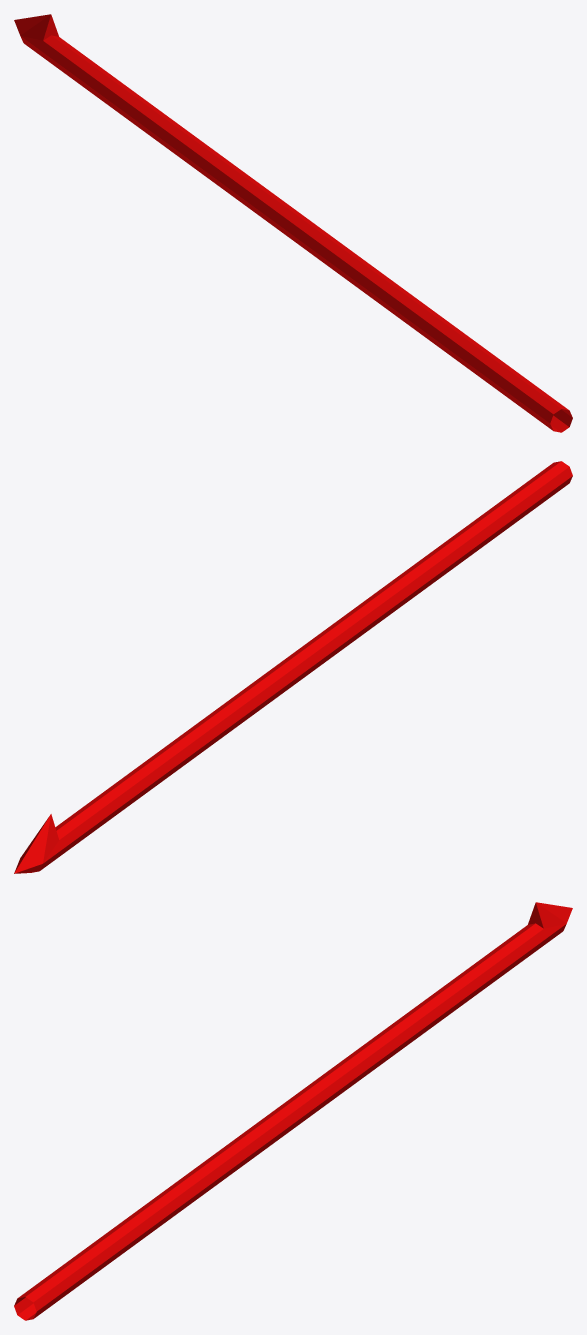
File: Spear.fbx
The picture shows the model from 3 angles, top to bottom: view 1: azimuth 30°, elevation 25°; view 2: azimuth 150°, elevation 25°; view 3: azimuth 330°, elevation 25°; orthographic projection.
Parts seen in each view (by area): view 1: polySurface8; view 2: polySurface8; view 3: polySurface8.
Boxes of the visible parts, <box> form: polySurface8: <box>14,14,572,432</box>; polySurface8: <box>14,461,572,873</box>; polySurface8: <box>14,902,572,1320</box>.
Size of the model in its own units: 0.0949 by 0.1794 by 3.96.
